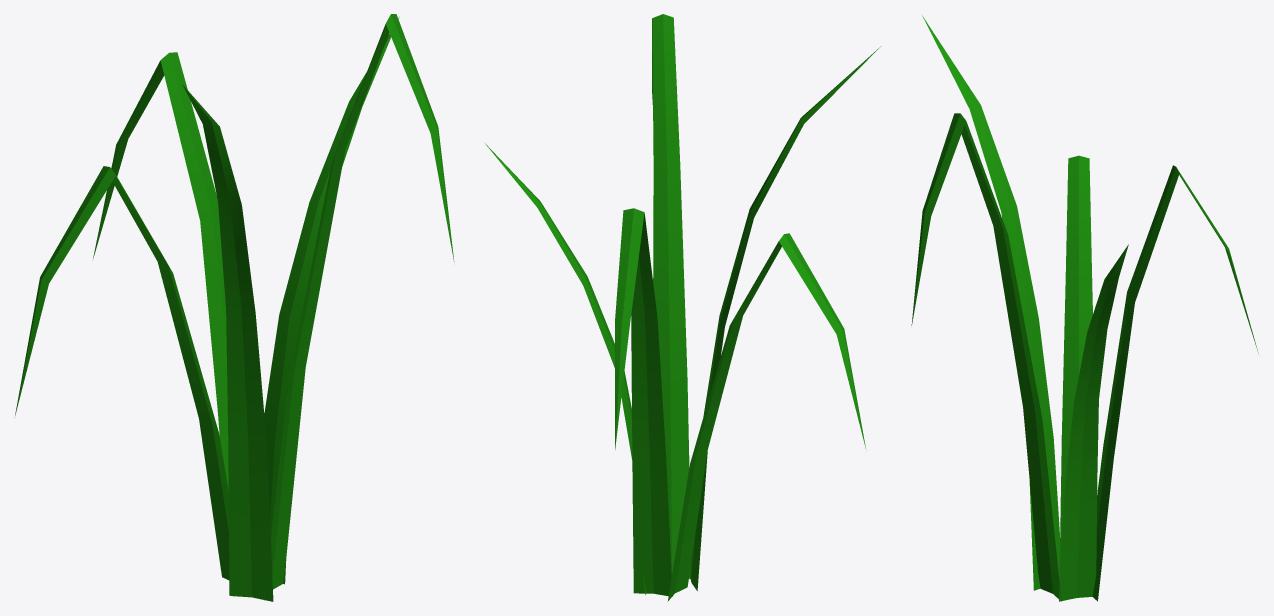
File: Grass3.fbx
The picture shows the model from 3 angles, left to right: view 1: azimuth 30°, elevation 25°; view 2: azimuth 150°, elevation 25°; view 3: azimuth 270°, elevation 25°; orthographic projection. The views are drawn at different scales.
Parts seen in each view (by area): view 1: Grass3; view 2: Grass3; view 3: Grass3.
Part boxes in pixels (left/top/right/bottom): Grass3: left=14, top=14, right=454, bottom=601; Grass3: left=485, top=14, right=880, bottom=601; Grass3: left=911, top=15, right=1258, bottom=601.
Bounding box in the file's own units: 40.11 × 55.89 × 34.46.
Materials: 1 (1 with a texture image).
